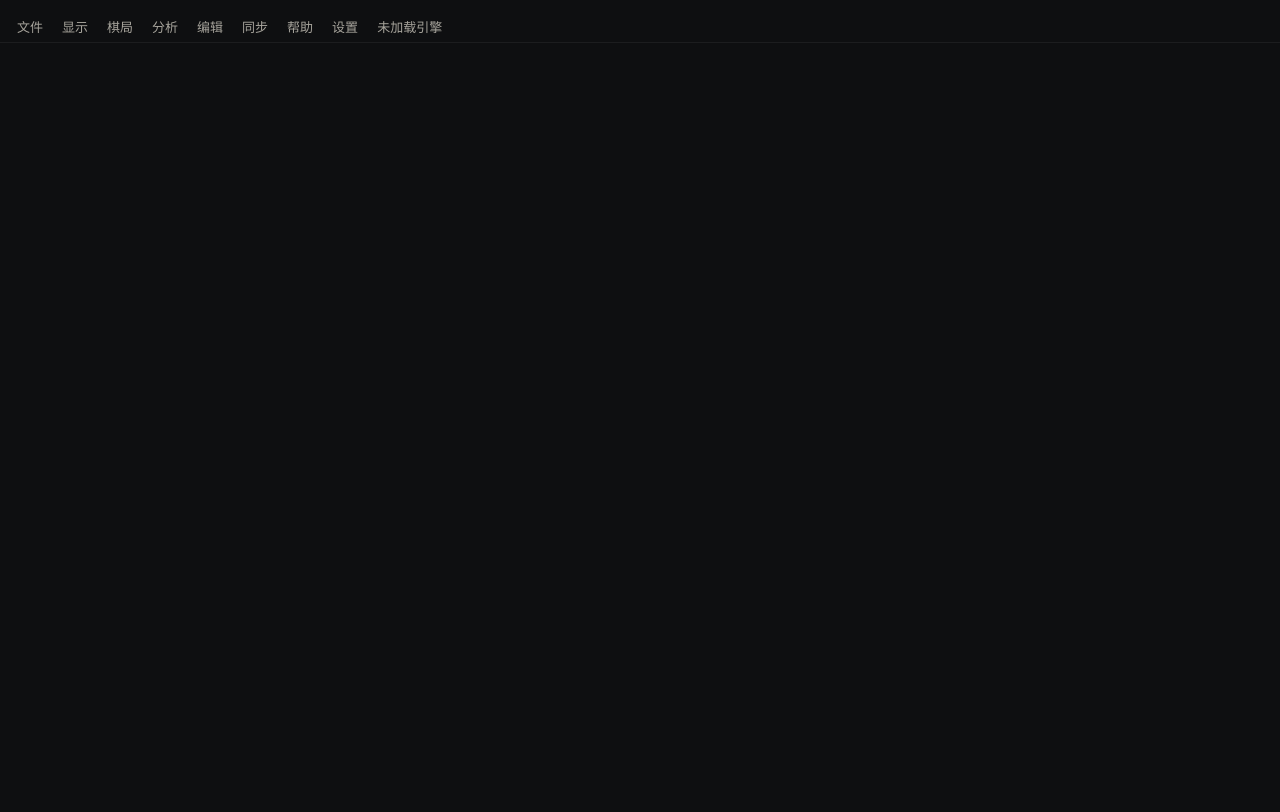
Test: the menu strip › moving along the strip while a menu is open switches menus; a click outside closes
Step 1. Click the menu item "文件" → point(30, 27), box left=8, top=15, right=52, bottom=39
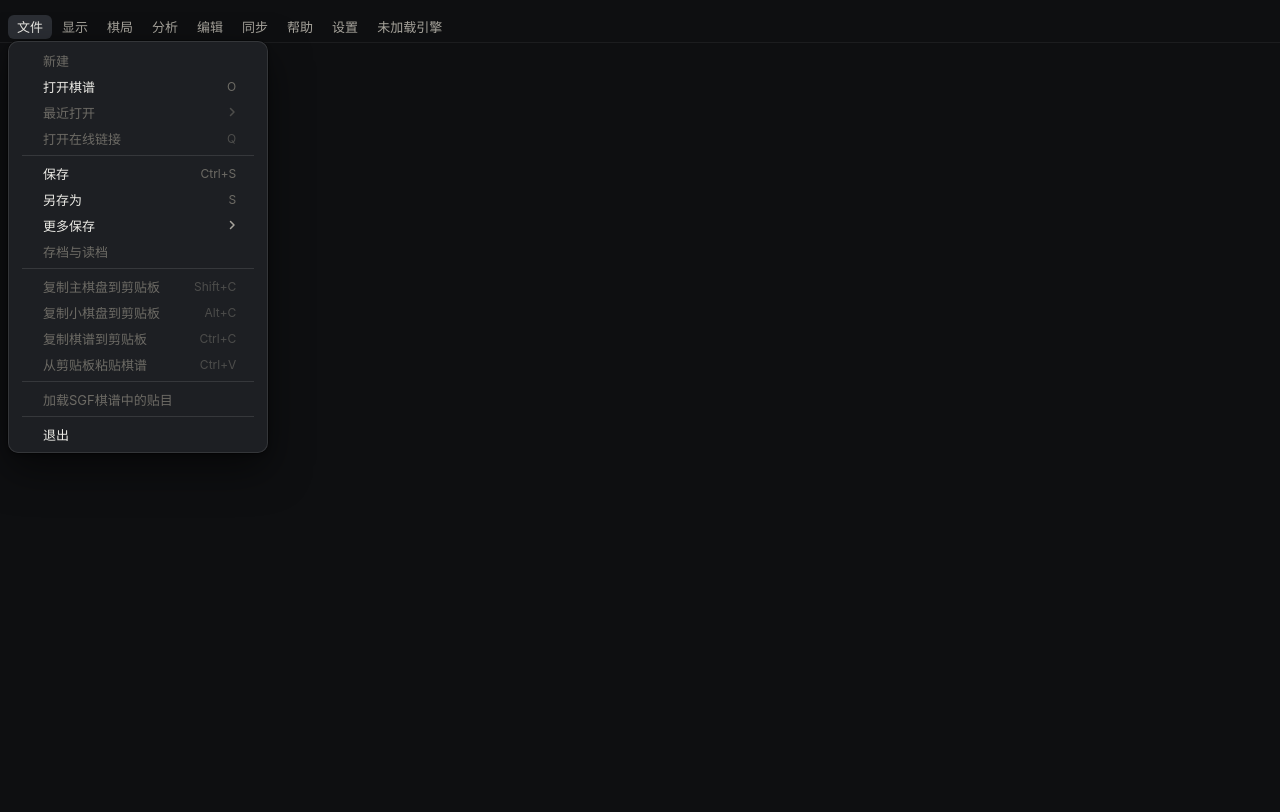
Step 2. Hover over the menu item "显示" → point(75, 27), box left=53, top=15, right=97, bottom=39
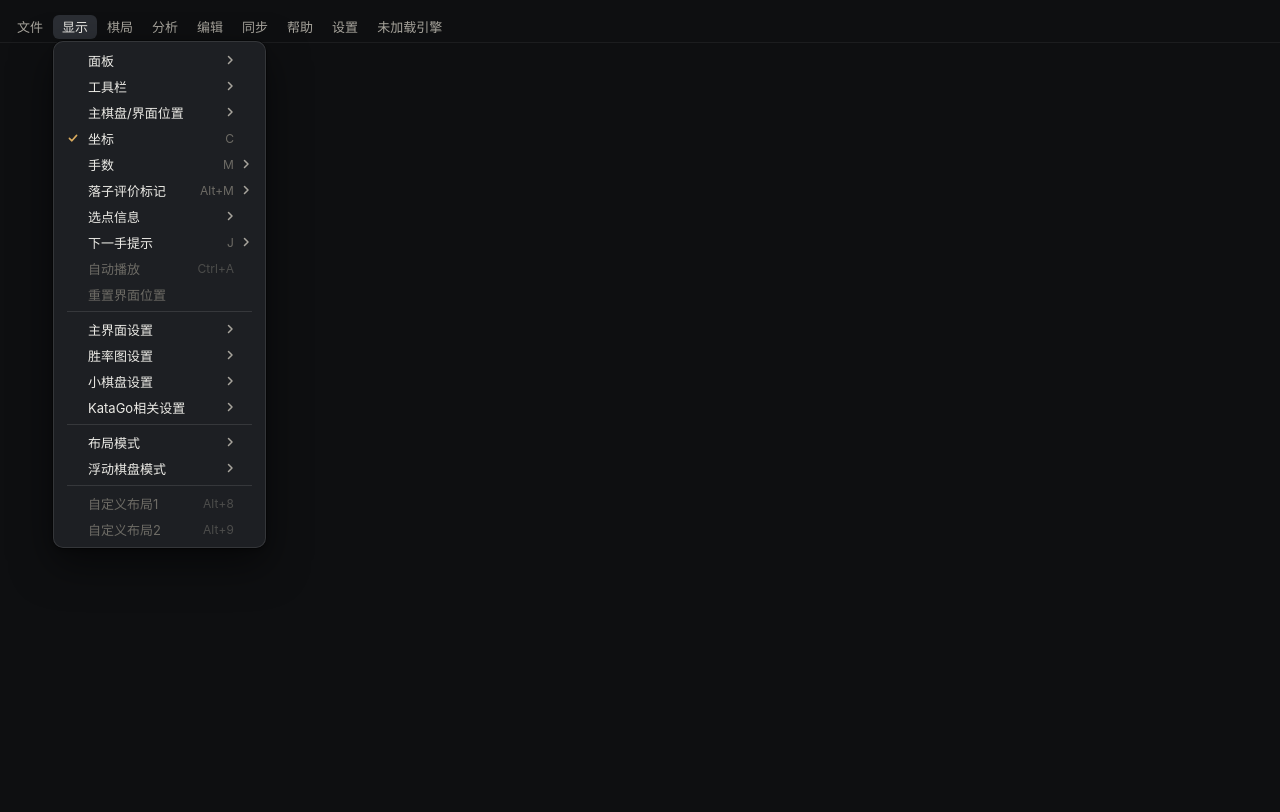
Step 3. Press the mouse on the element that starts with "未加载引擎" → point(640, 412), box left=0, top=12, right=1279, bottom=811
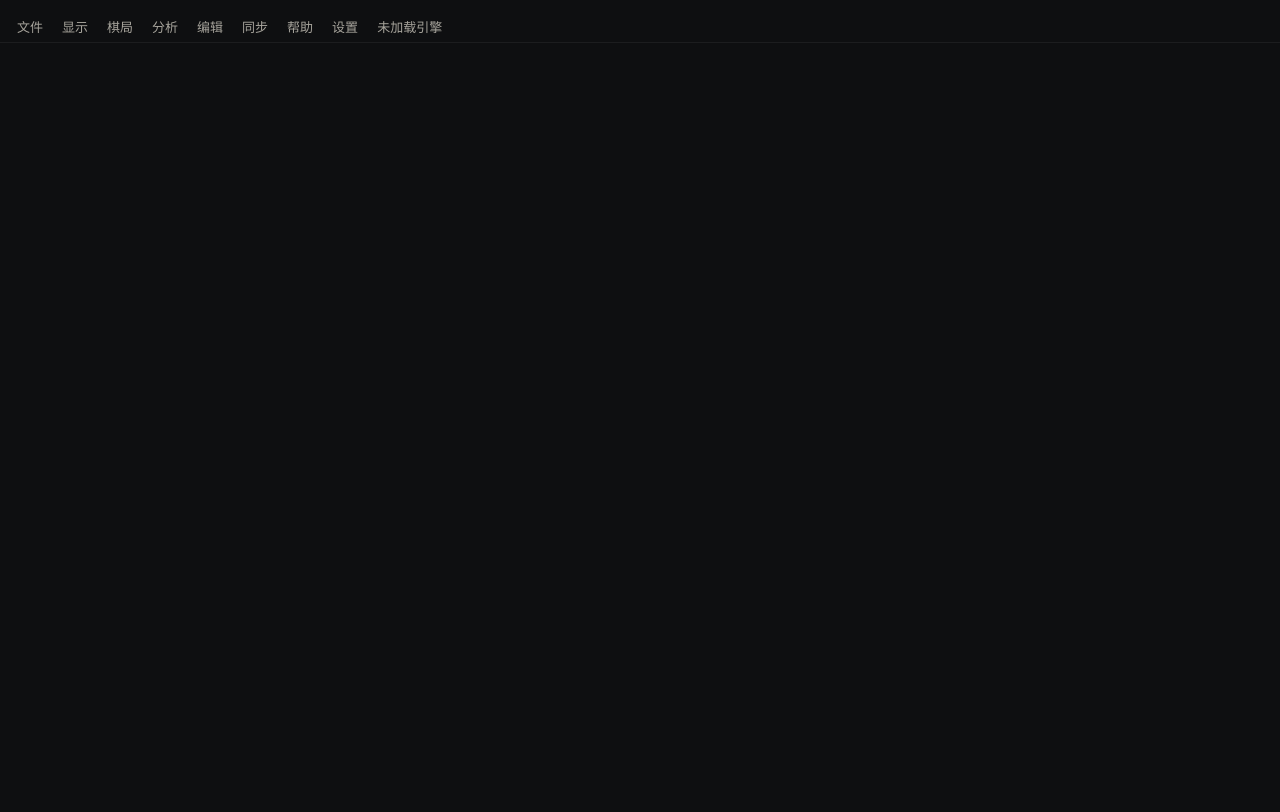
Result: no menus with test id "menu-popup" are shown
